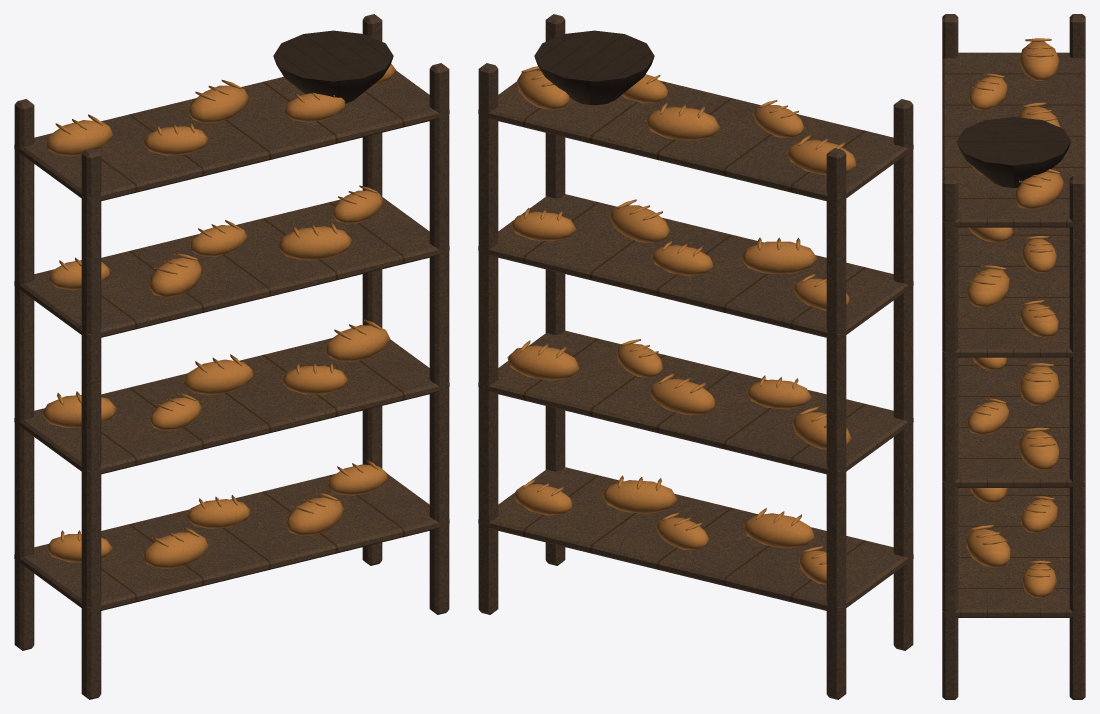
The model's file is bread_rack.glb.
3 renders of one model, left to right at view 1: azimuth 30°, elevation 25°; view 2: azimuth 150°, elevation 25°; view 3: azimuth 270°, elevation 25°, orthographic. The views are drawn at different scales.
Visible parts, largest first — view 1: bread_rack; view 2: bread_rack; view 3: bread_rack.
Boxes of the visible parts, x1=… form: bread_rack: x1=14, y1=14, x2=449, y2=699; bread_rack: x1=478, y1=14, x2=913, y2=699; bread_rack: x1=942, y1=14, x2=1085, y2=699.
Size of the model in its own units: 1.25 by 1.81 by 0.45.
1 material, 1 textured.
